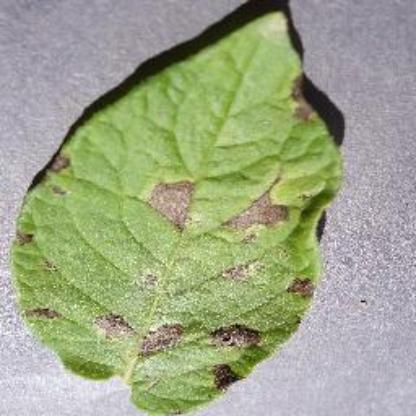Early-Blight: (12, 8, 346, 414)
